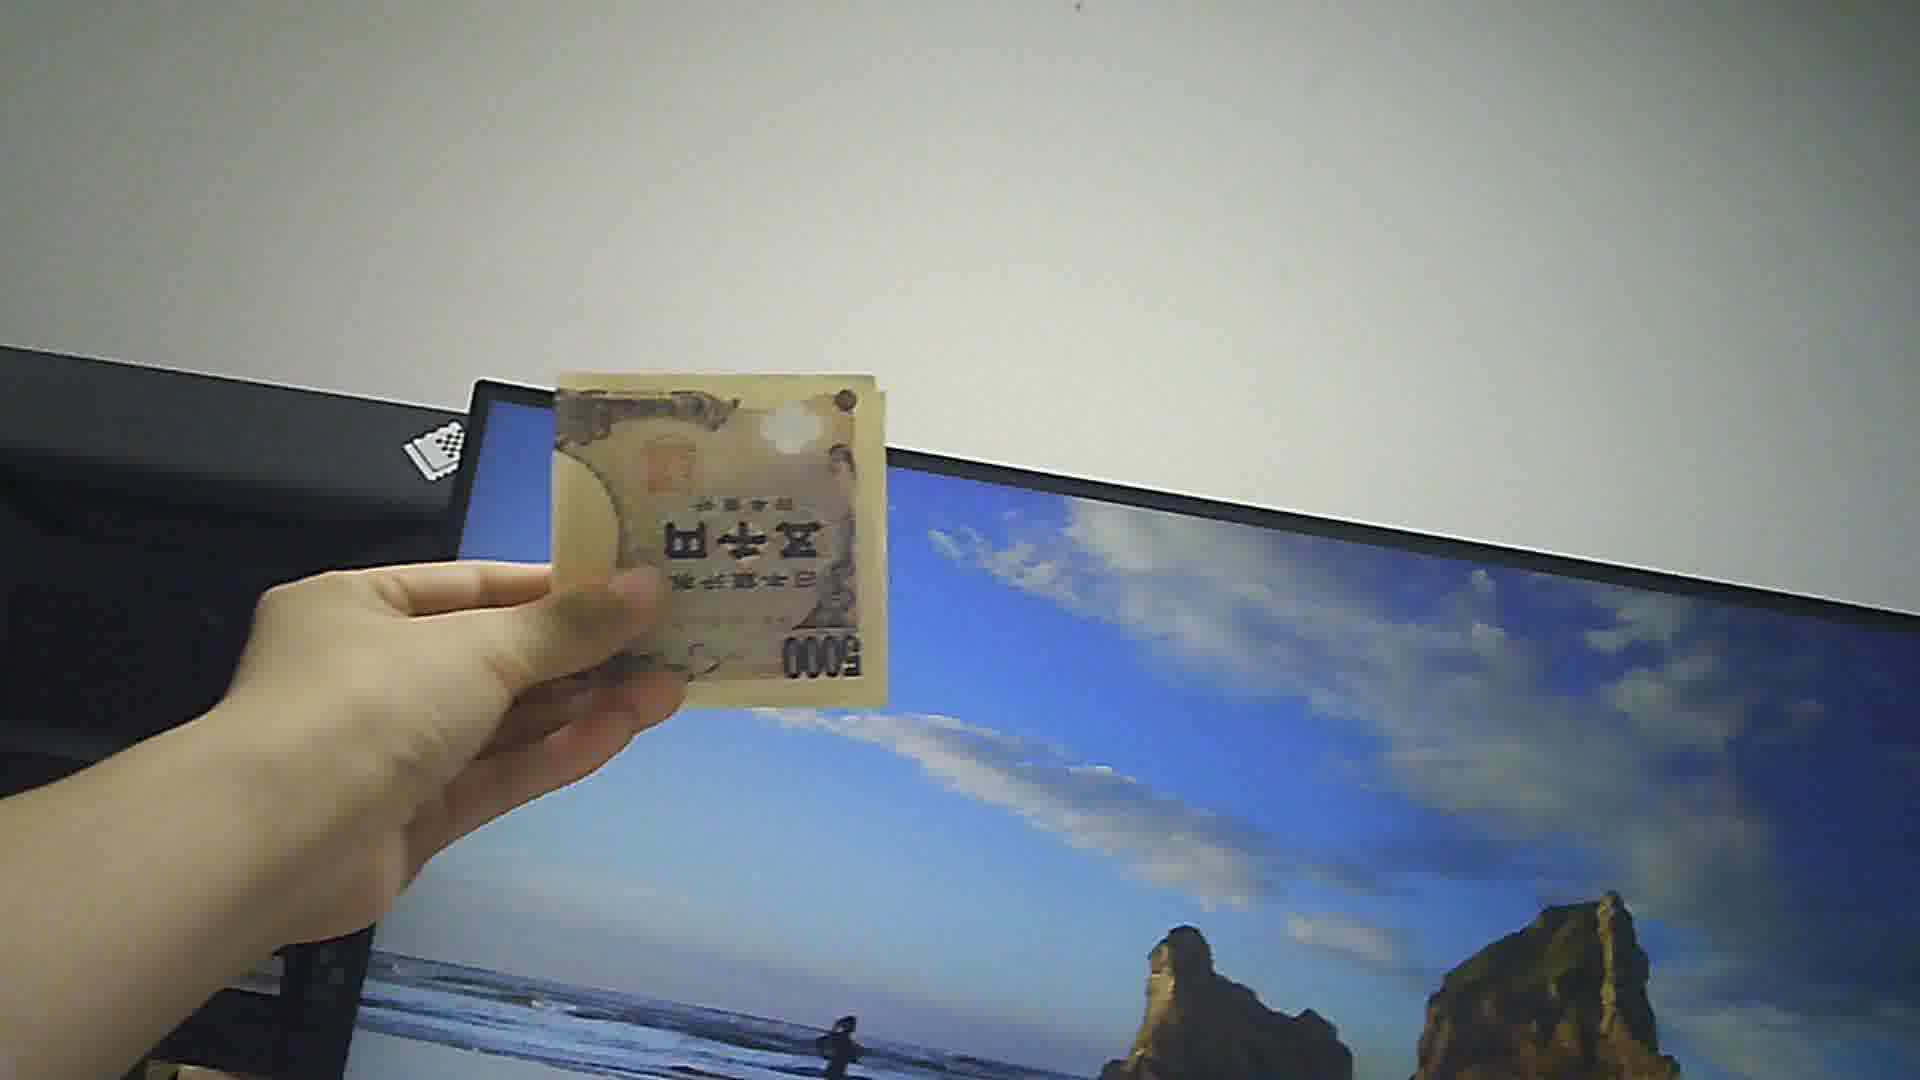5,000 Yen: (537, 349, 899, 703)
